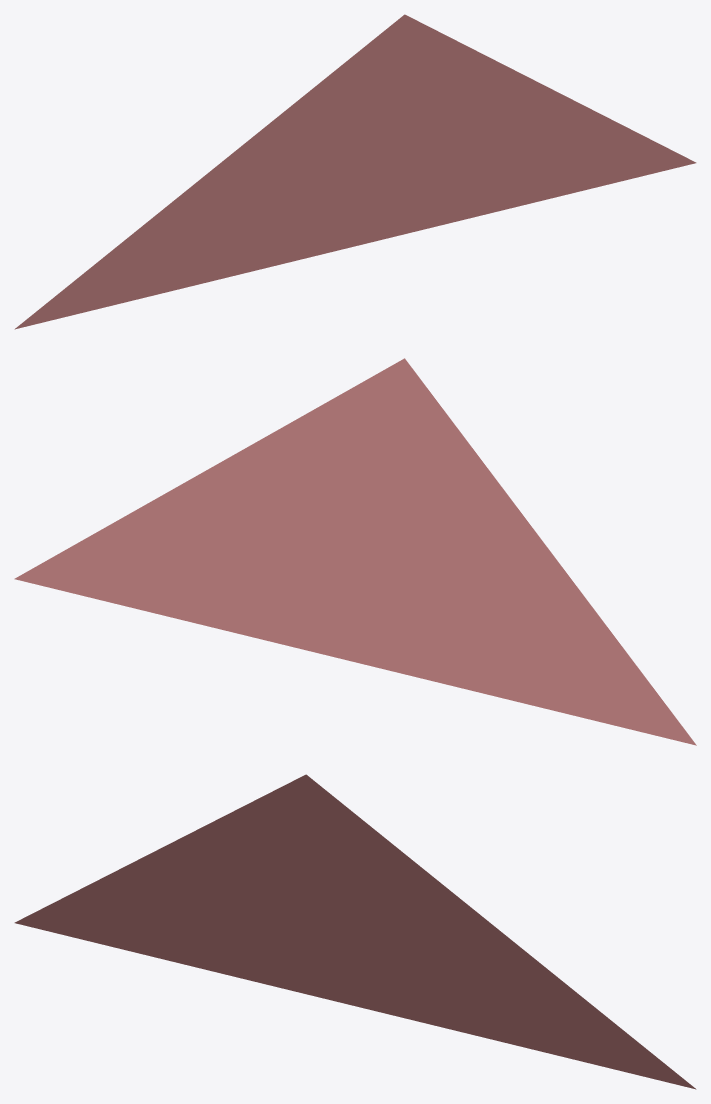
Rendered from morph.gltf.
The picture shows the model from 3 angles, top to bottom: view 1: azimuth 30°, elevation 25°; view 2: azimuth 150°, elevation 25°; view 3: azimuth 330°, elevation 25°; orthographic projection.
Size of the model in its own units: 2 by 0.75 by 0.25.
